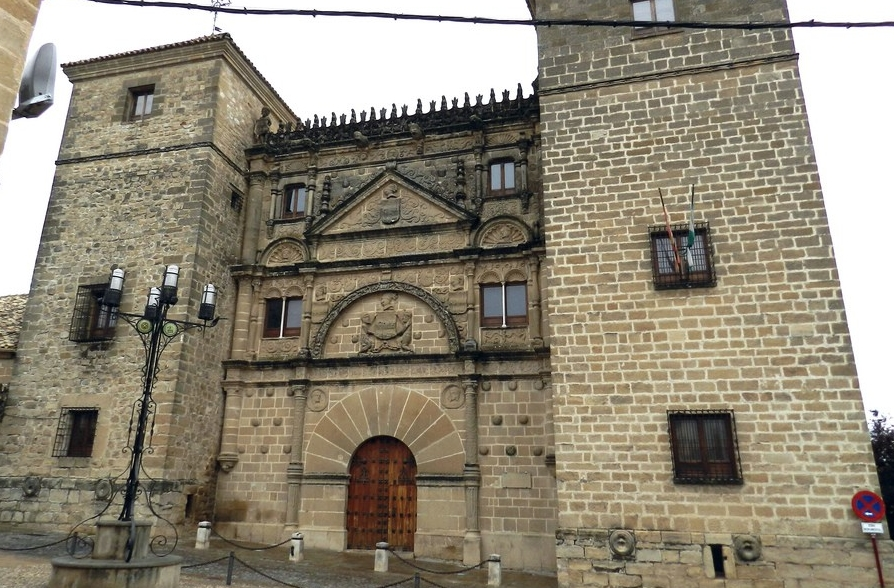arco-medio-punto: (340, 430, 422, 490)
fronton: (300, 168, 475, 241)
